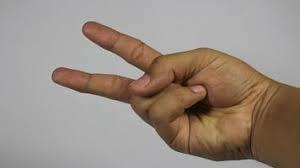scissors: (48, 10, 267, 166)
